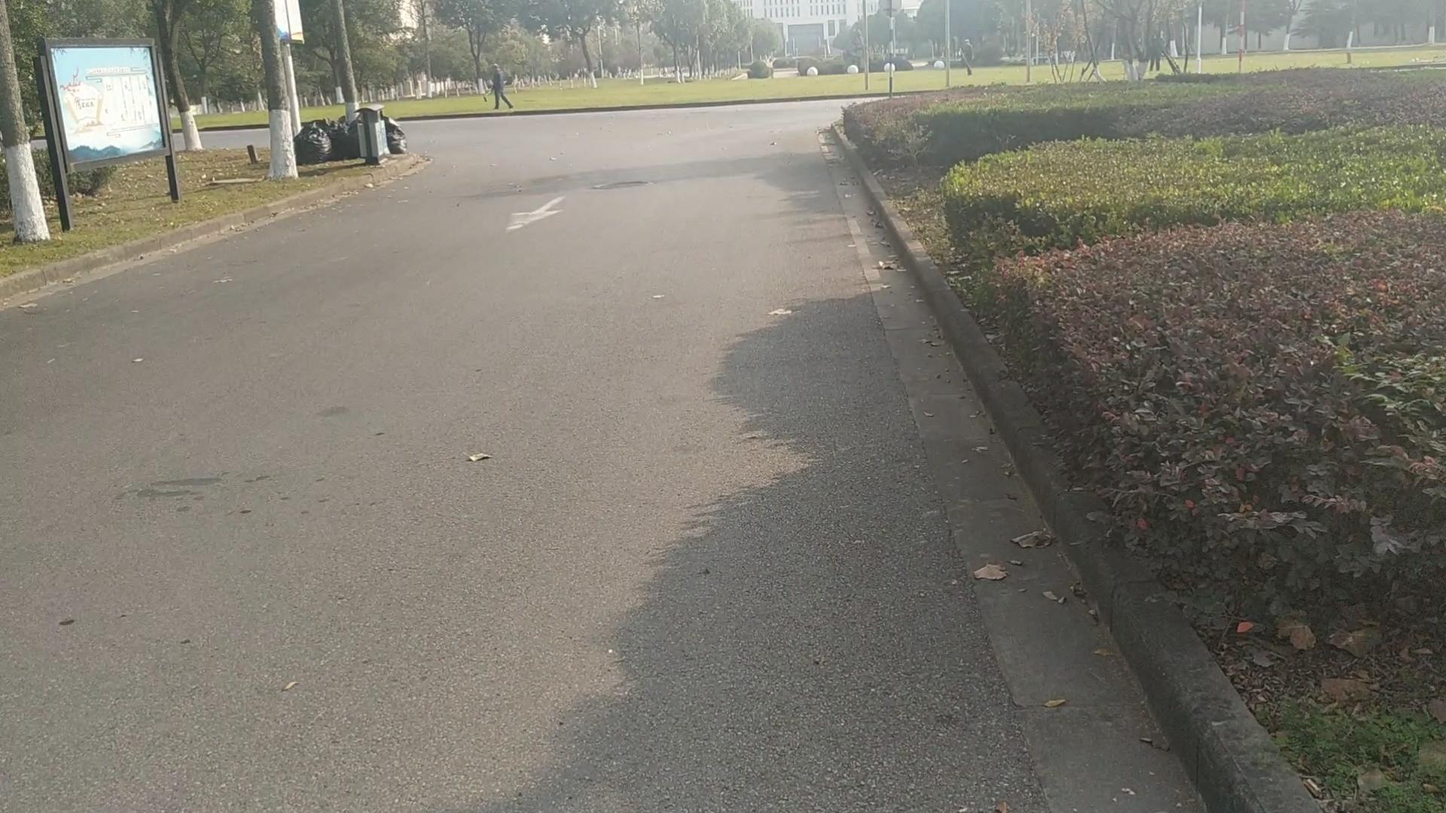car: (877, 49, 913, 69)
